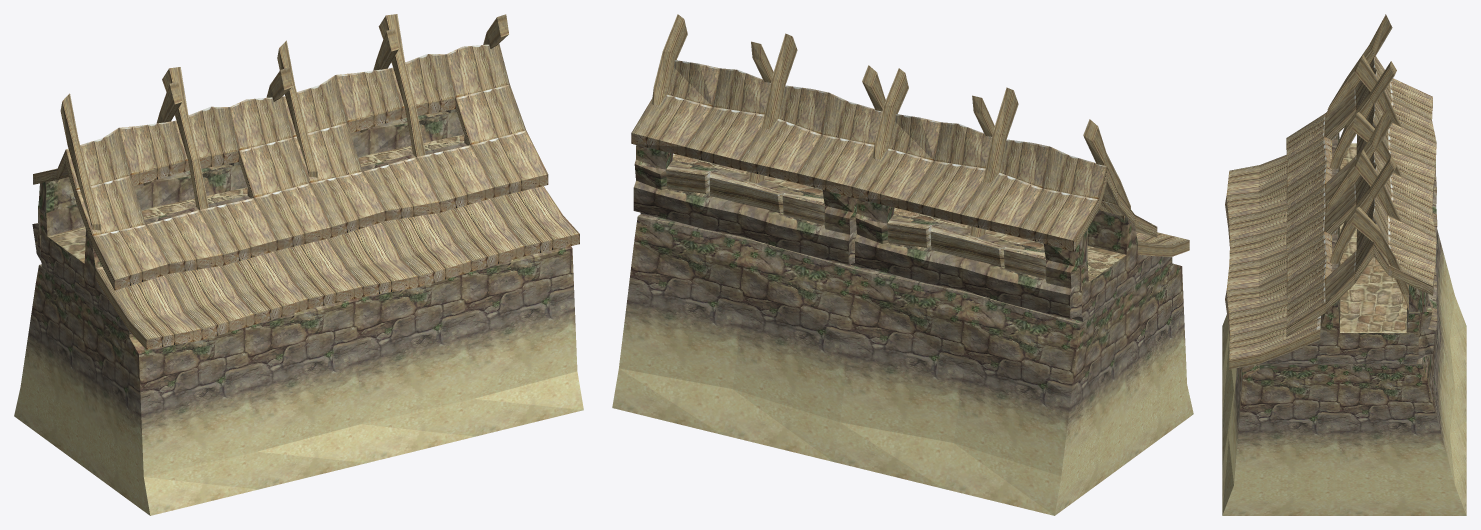
Rendered from C3SMWA20_H.obj.
3 views of the same model, side by side, from view 1: azimuth 30°, elevation 25°; view 2: azimuth 150°, elevation 25°; view 3: azimuth 270°, elevation 25° (orthographic). The views are drawn at different scales.
Parts seen in each view (by area): view 1: Node 0; view 2: Node 0; view 3: Node 0.
Boxes of the visible parts, left/top/right/bottom form: Node 0: left=14, top=14, right=583, bottom=515; Node 0: left=612, top=14, right=1193, bottom=515; Node 0: left=1222, top=14, right=1466, bottom=515.
Bounding box in the file's own units: 20 × 15.57 × 10.88.
Materials: 2 (2 with a texture image).
